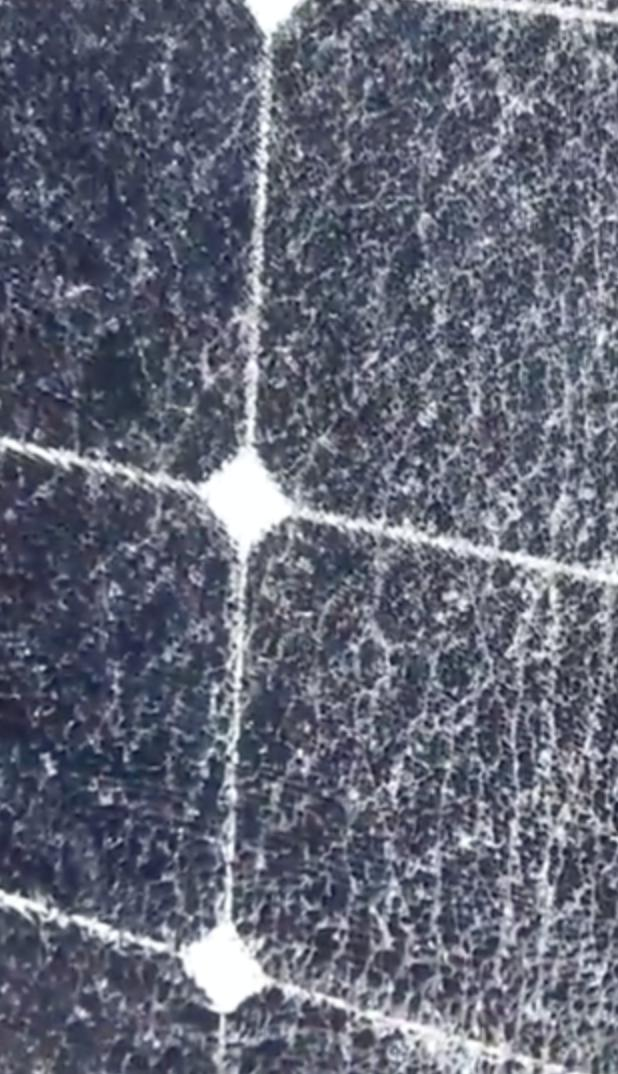Crack: (38, 8, 617, 1069)
